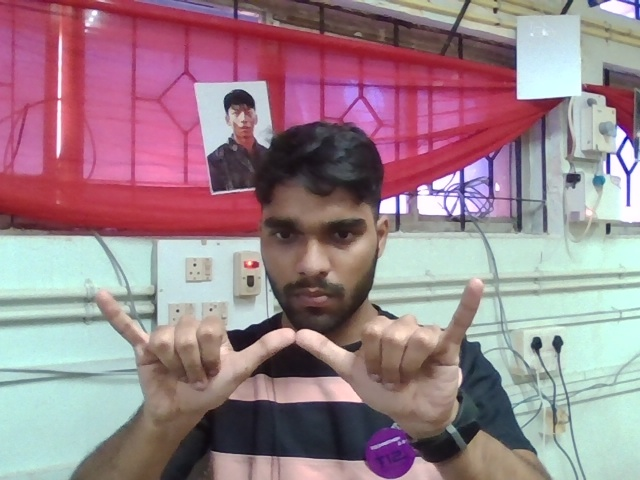play: (74, 267, 504, 451)
